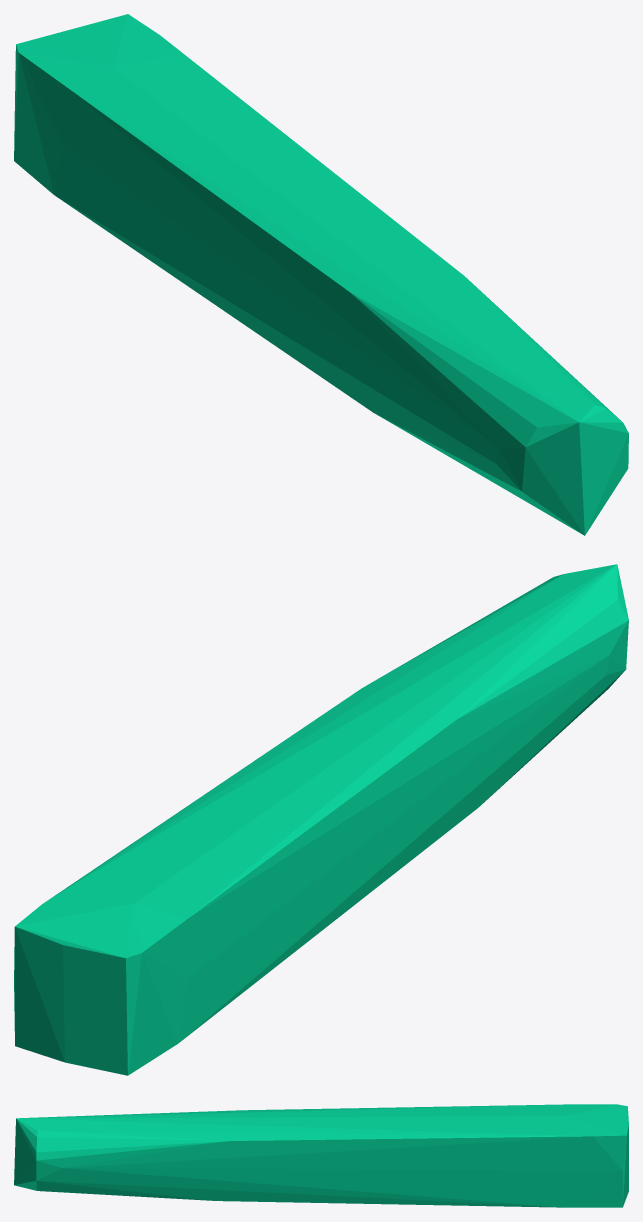
The model's file is model8_convex_piece_002.obj.
3 renders of one model, top to bottom at view 1: azimuth 30°, elevation 25°; view 2: azimuth 150°, elevation 25°; view 3: azimuth 270°, elevation 25°, orthographic. The views are drawn at different scales.
Bounding box in the file's own units: 0.0182 × 0.0175 × 0.1359.
